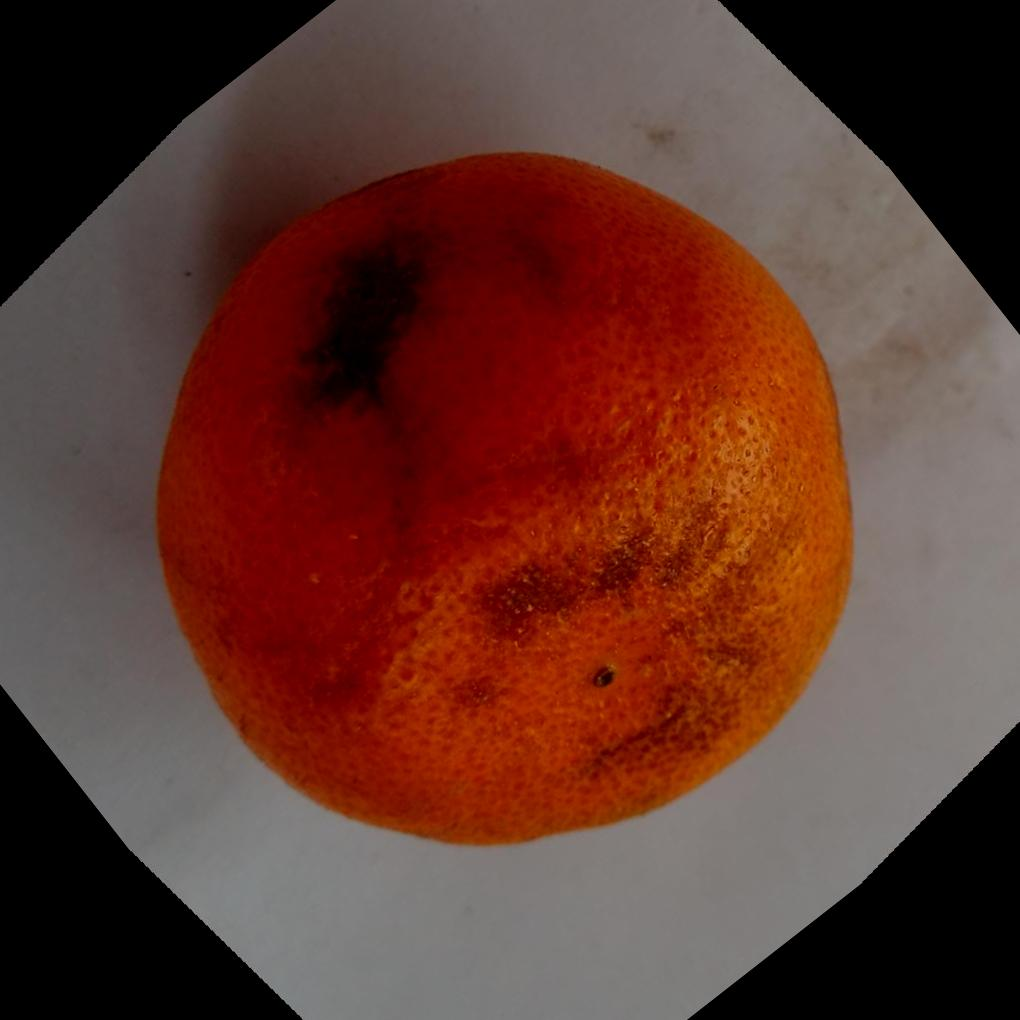FreshOrange: (149, 150, 853, 851)
